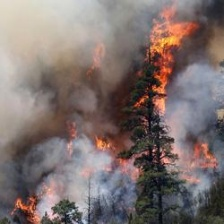fire: (143, 13, 198, 170)
smoke: (1, 2, 113, 224)
